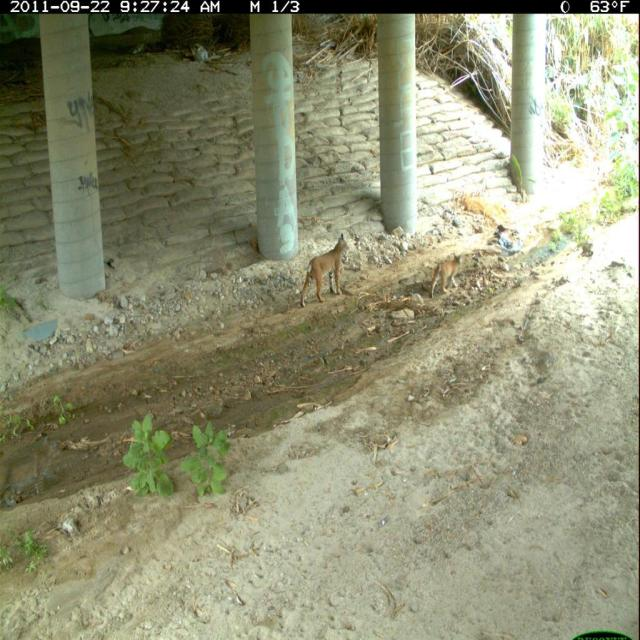bobcat: (296, 230, 352, 313), (426, 250, 466, 303)
